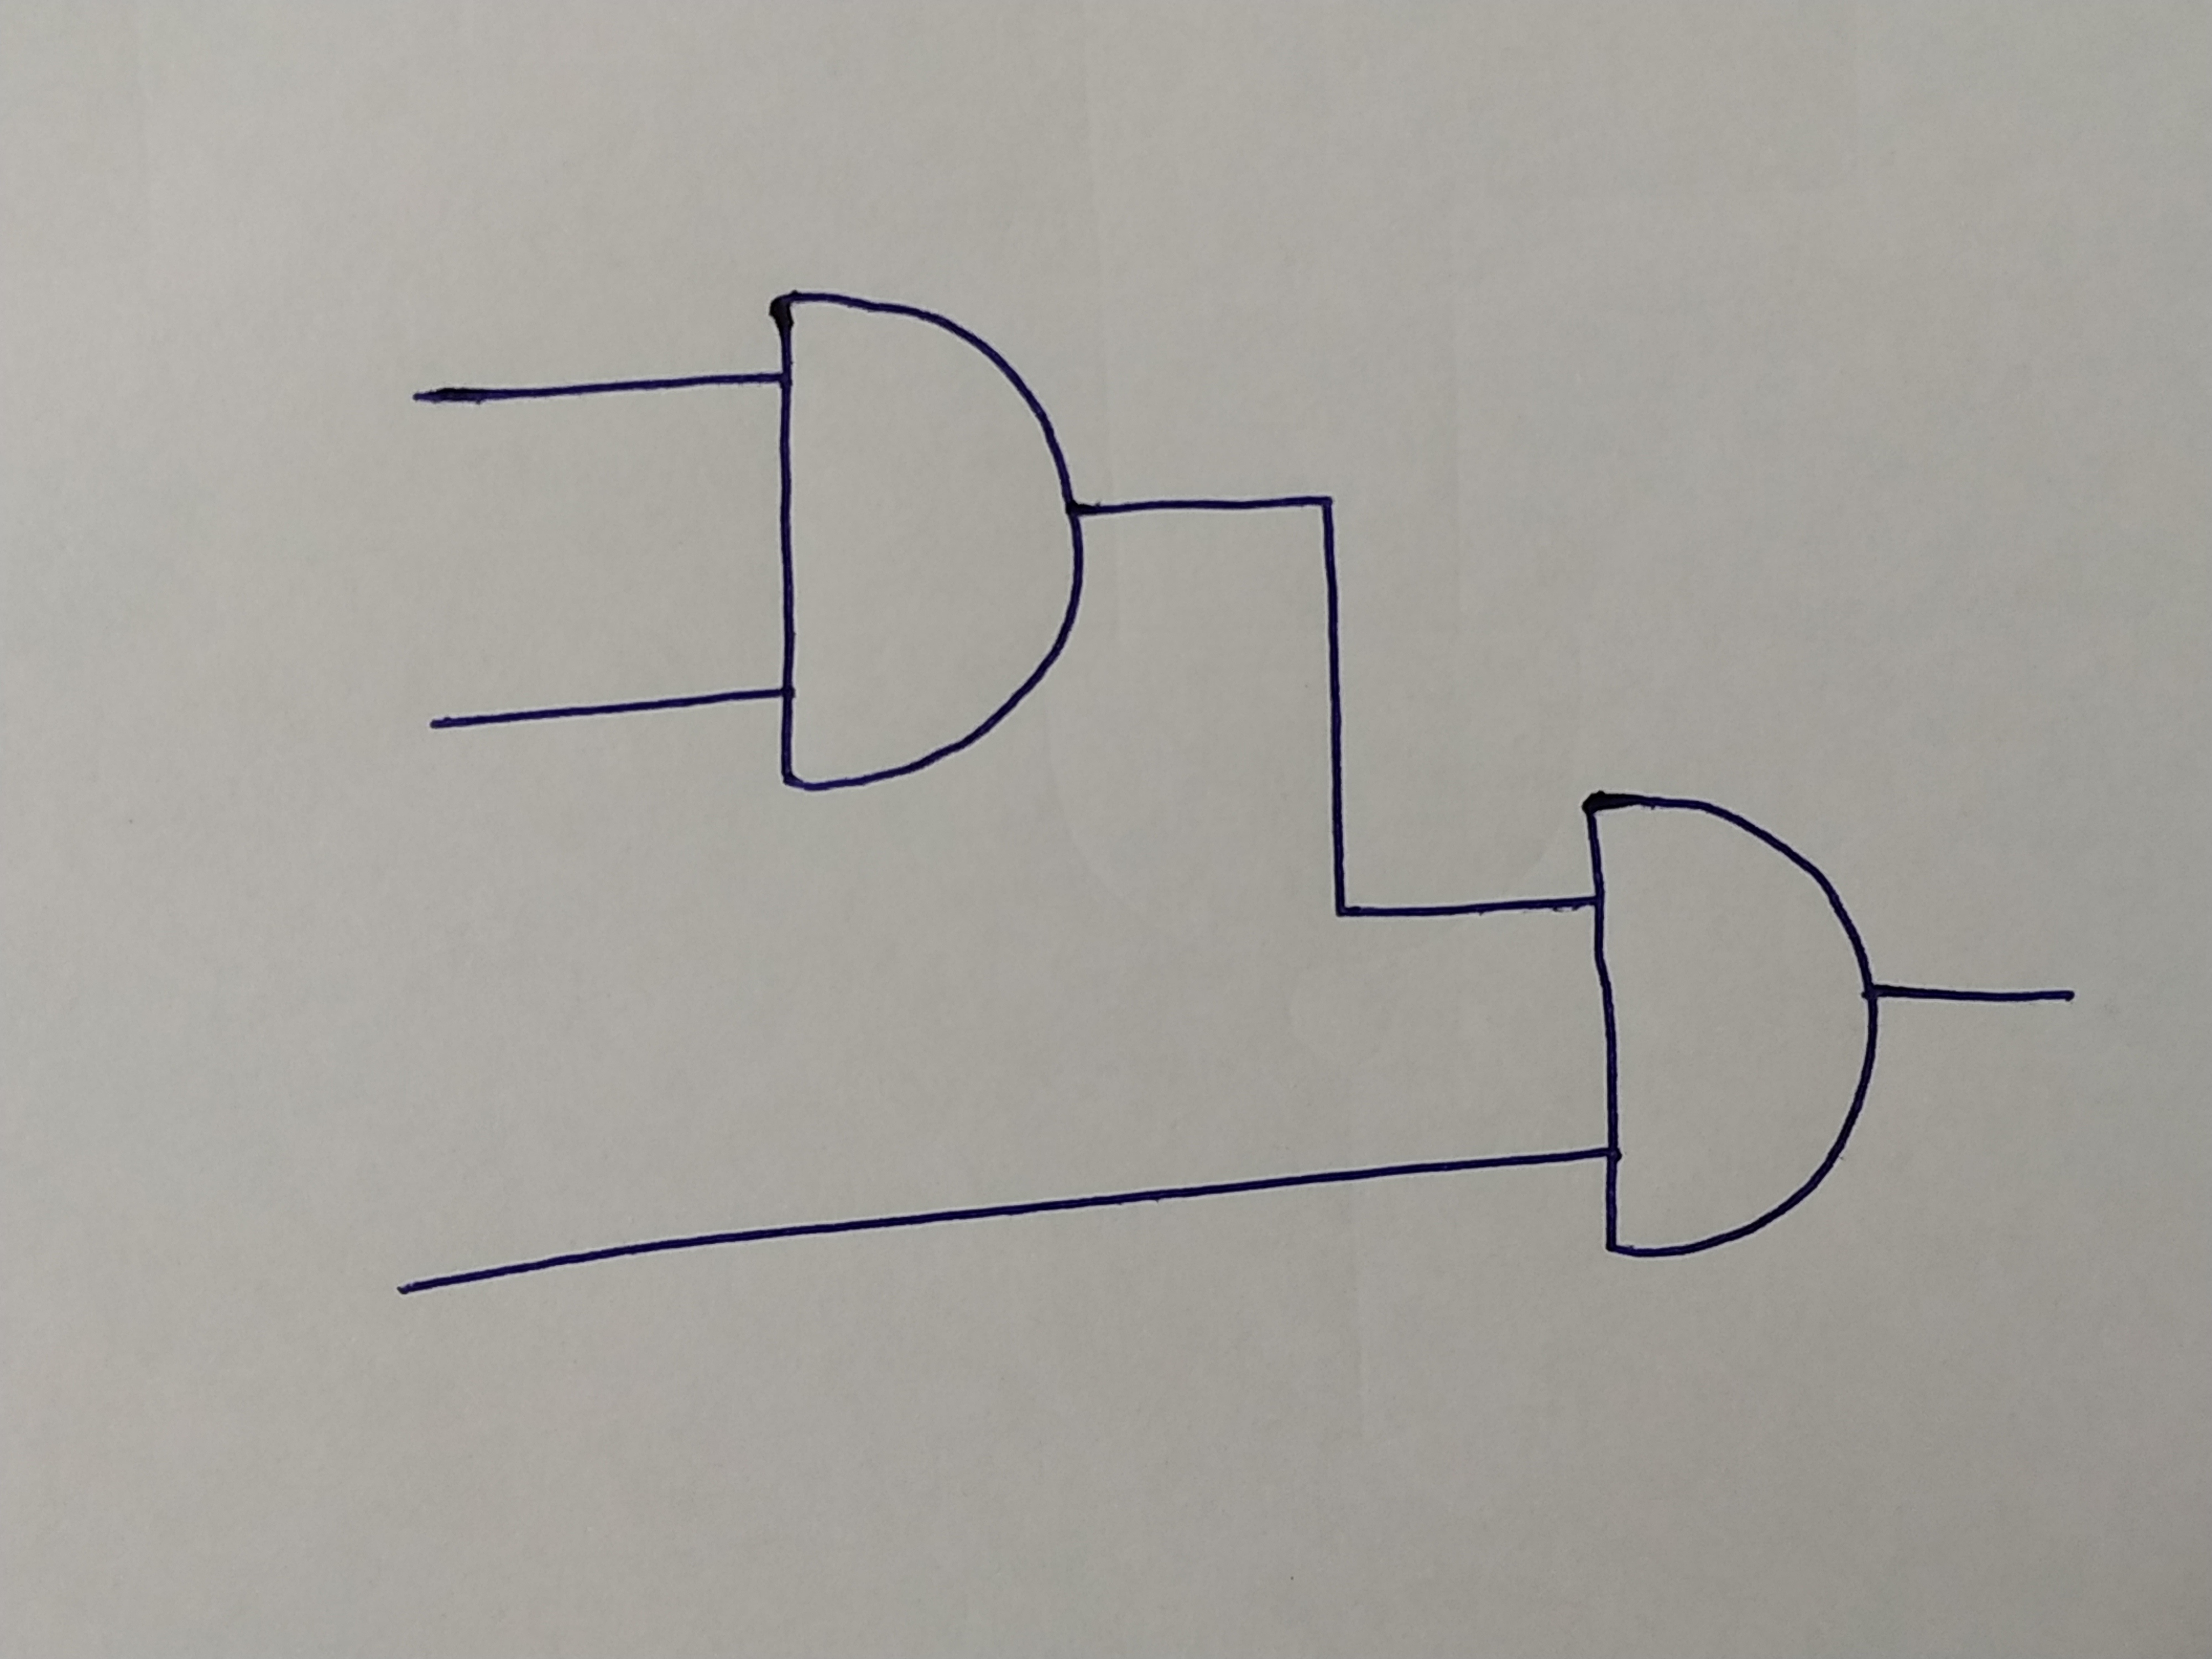and: (773, 286, 1075, 781), (1583, 791, 1879, 1262)
